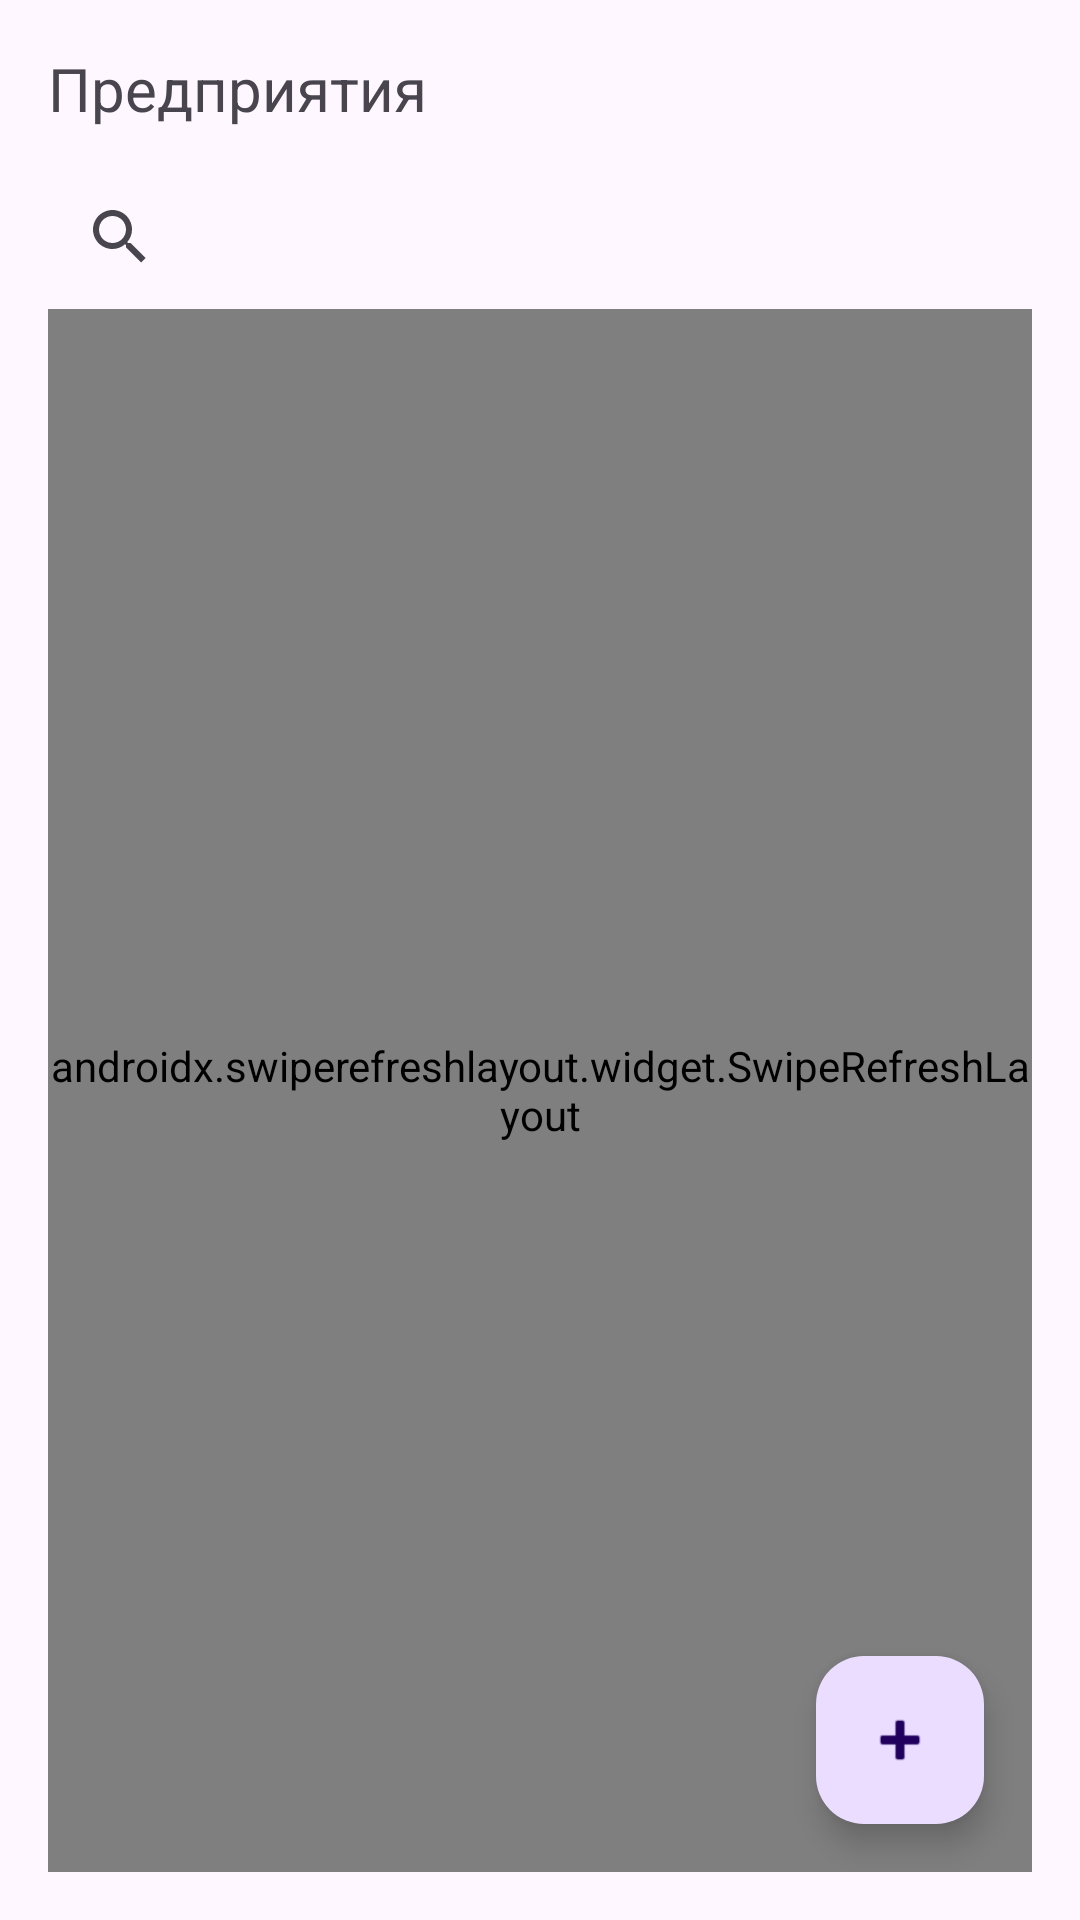

Where icons sit on this 1080px x 1920px app screen, as BBox(x1, y1, x2, y2):
Добавить предприятие: BBox(816, 1656, 984, 1824)
